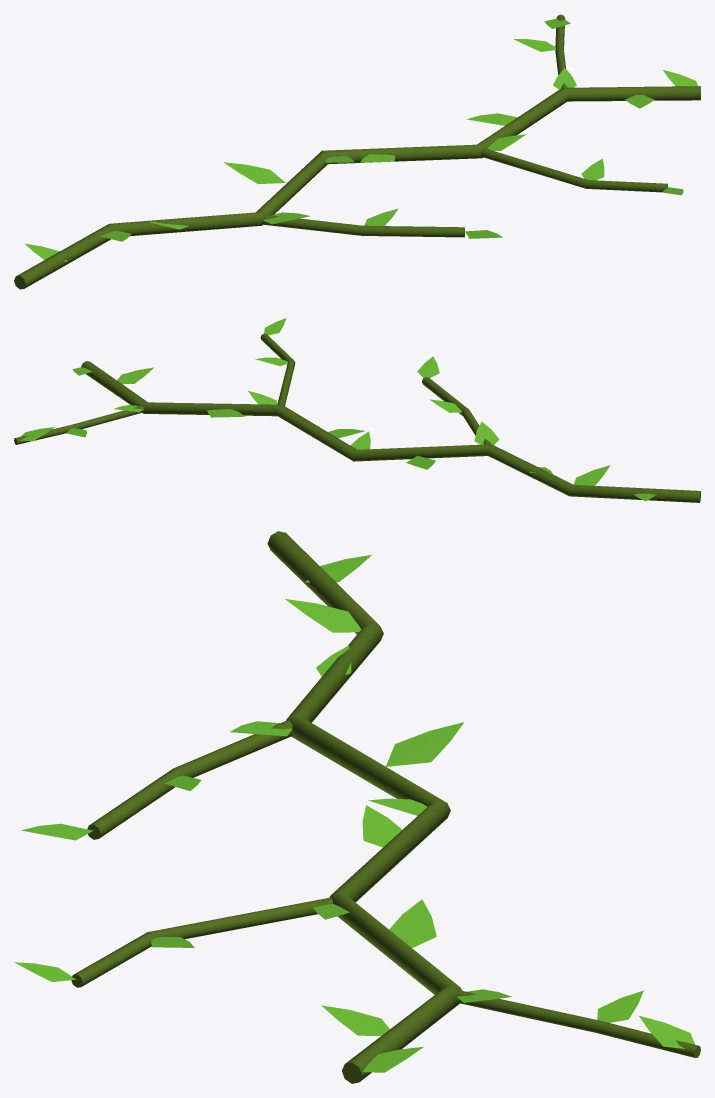
The model's file is Vine.fbx.
3 renders of one model, top to bottom at view 1: azimuth 30°, elevation 25°; view 2: azimuth 150°, elevation 25°; view 3: azimuth 270°, elevation 25°, orthographic. The views are drawn at different scales.
Parts seen in each view (by area): view 1: Vine_VineStemMat.001, Vine_VineLeafMat.001; view 2: Vine_VineStemMat.001, Vine_VineLeafMat.001; view 3: Vine_VineStemMat.001, Vine_VineLeafMat.001.
Boxes of the visible parts, x1=… form: Vine_VineStemMat.001: x1=14, y1=14, x2=700, y2=289; Vine_VineLeafMat.001: x1=25, y1=18, x2=697, y2=261; Vine_VineStemMat.001: x1=14, y1=333, x2=700, y2=502; Vine_VineLeafMat.001: x1=20, y1=318, x2=656, y2=501; Vine_VineStemMat.001: x1=71, y1=531, x2=700, y2=1083; Vine_VineLeafMat.001: x1=14, y1=555, x2=694, y2=1072.
Size of the model in its own units: 502 by 14.01 by 271.
